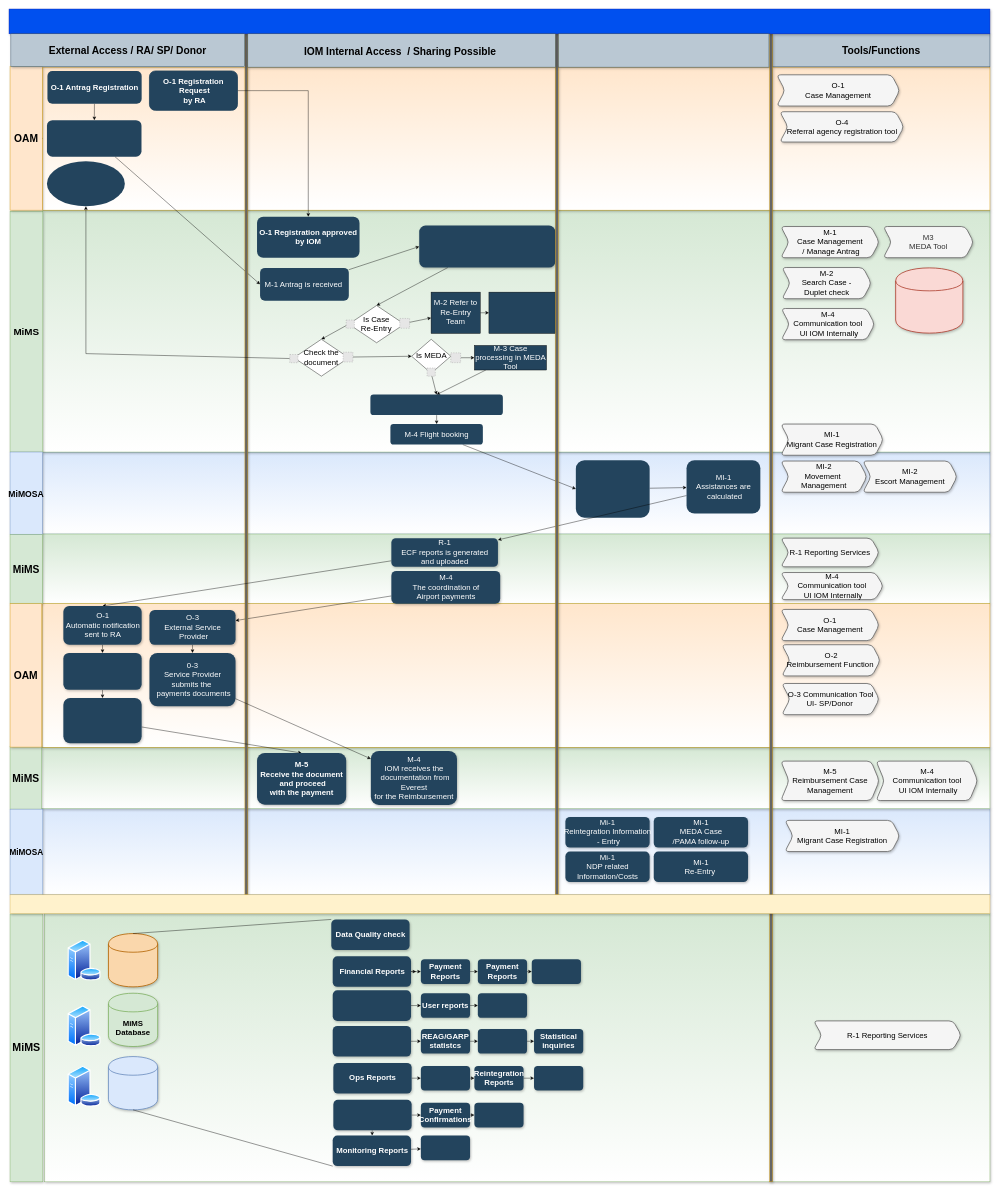
The diagram is 1000 pixels wide and 1192 high, and some of its shapes have lost their labels. Grey dashed boxes stand in for pictures. The centre of each missing label's shape, as x and y in pixels:
"0-1 Antrag submitted to IOM by RA" goes at (x=94, y=138).
"Digital Workflow of the REAG-GARP Application" goes at (x=499, y=22).
"ECF Reports" goes at (x=372, y=1115).
"Escort Reports" goes at (x=499, y=1115).
"I-1 IRES Application" goes at (x=929, y=301).
"I-1 Re-Entry Case processing in IRES" goes at (x=522, y=312).
"iGator Reports" goes at (x=556, y=972).
"IOM Internal Access / Sharing NOT Possible" goes at (x=664, y=51).
"M-1 Case Processing" goes at (x=436, y=404).
"M-2 Duplet check based on Data from MiMOSA and Legacy system" goes at (x=487, y=247).
"MEDA reports" goes at (x=558, y=1078).
"MI-1 / M-2 Case is registered in MiMOSA" goes at (x=612, y=488).
"MiMOSA Database" goes at (x=133, y=1083).
"MiMOSA Reports" goes at (x=445, y=1078).
"Missing documents/Information are requested" goes at (x=86, y=183).
"O-1 RA downloads the entitlement confirmation form" goes at (x=102, y=671).
"O-2 RA Uploads the reimbursement documents" goes at (x=102, y=721).
"OAM Database" goes at (x=133, y=960).
"OAM Reports" goes at (x=372, y=1006).
"Registration reports" goes at (x=502, y=1005).
"Reports generated using OAM / MiMS / MiMOSA" goes at (x=500, y=904).
"Research Data" goes at (x=445, y=1148).
"SHP Statistics" goes at (x=502, y=1041).
"Statistical Reports" goes at (x=372, y=1041).
